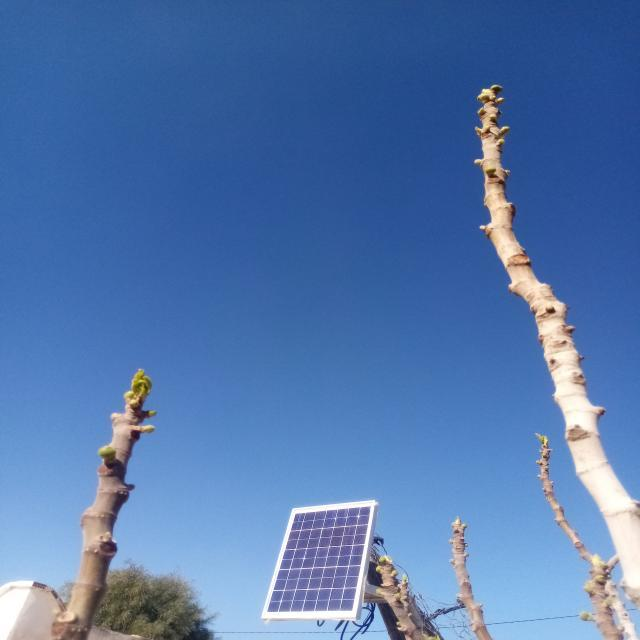no faulty: (262, 501, 375, 619)
